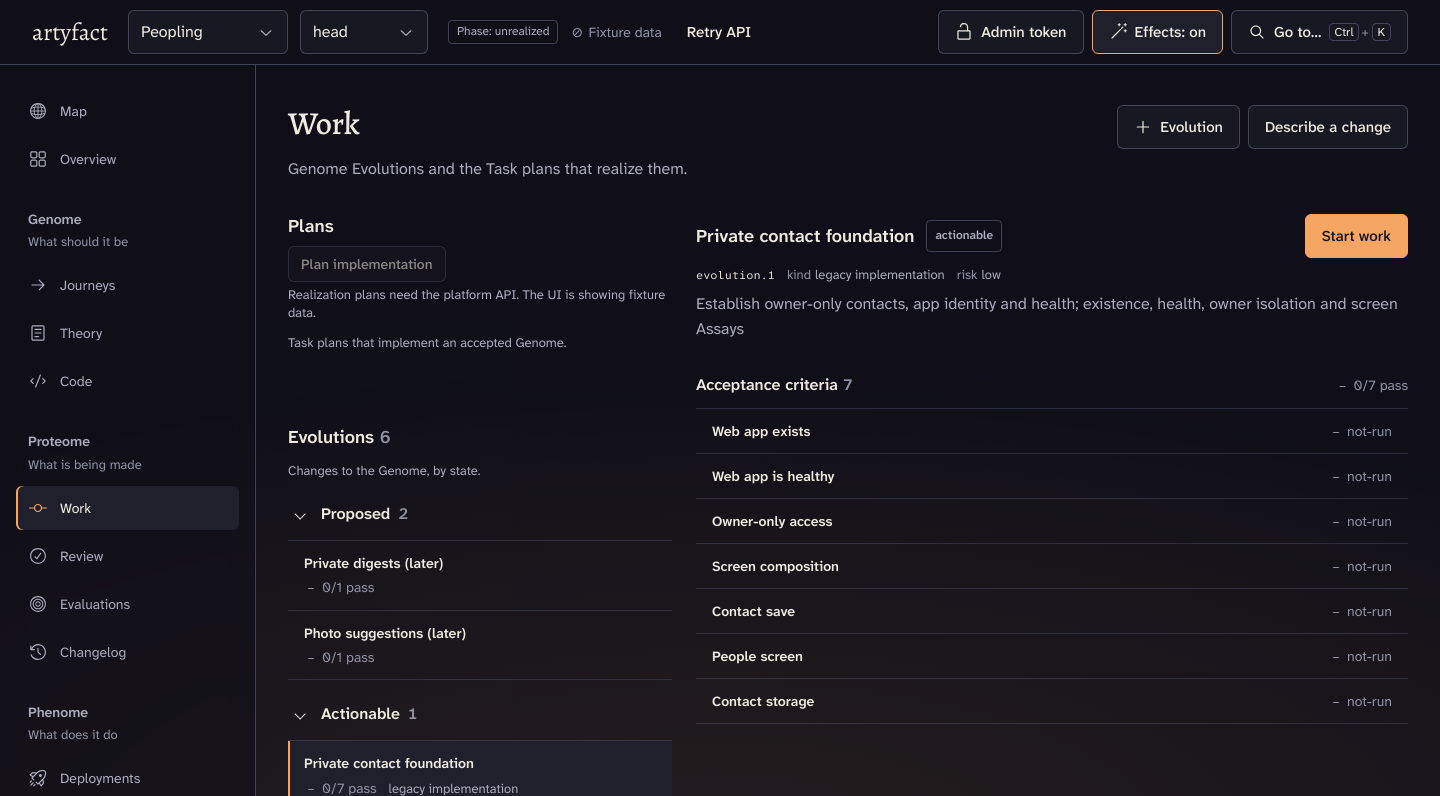
Scenario: Work list and detail › selects the first item waiting on you on arrival (replace), and a row click opens its detail
Expected: the heading "Private contact foundation actionable" is shown, [696,220,1002,252]
Click the link "Private digests (later) 0/1 pass": (374, 563) [304,554,443,596]
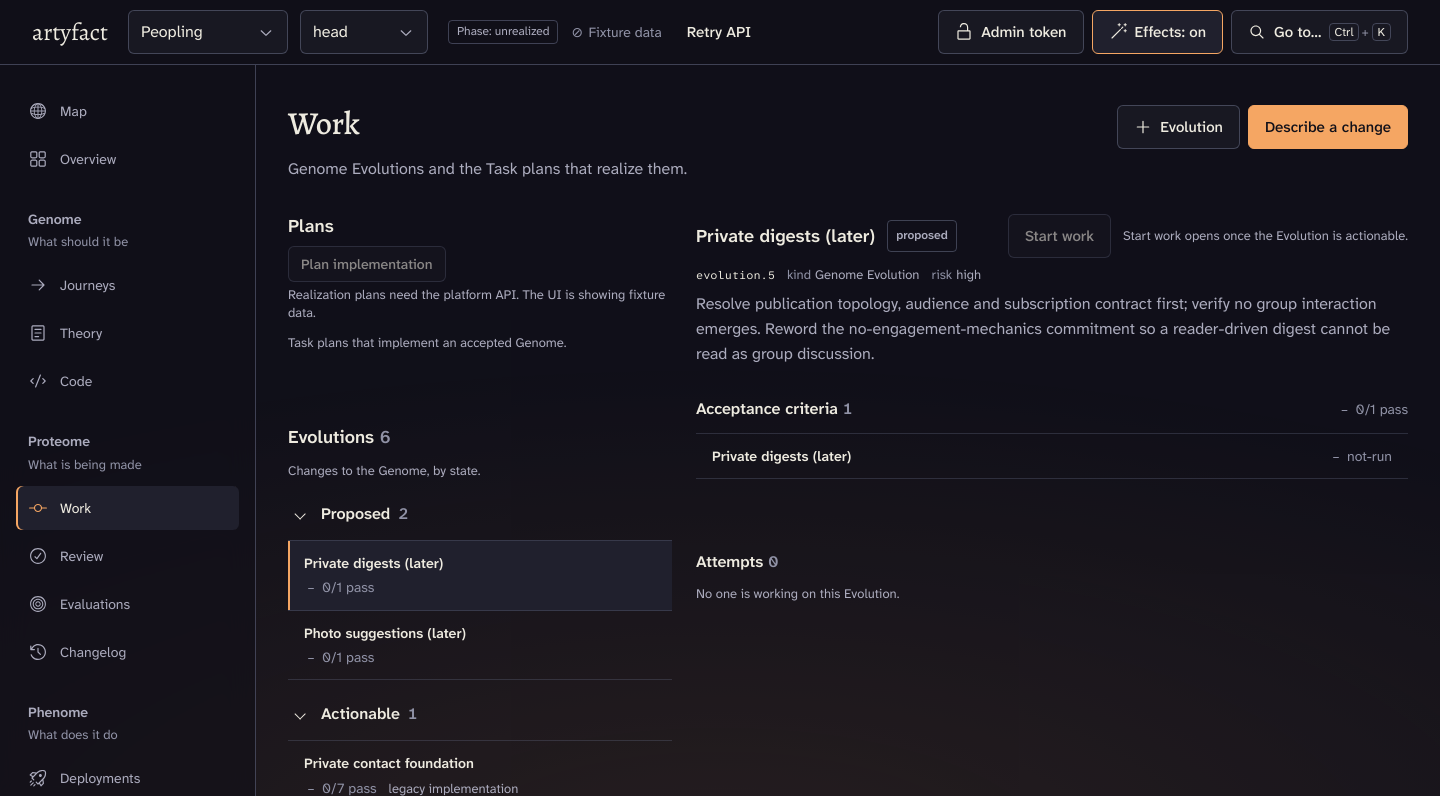
Result: the heading "Private digests (later) proposed" is shown at [696,220,957,252]
